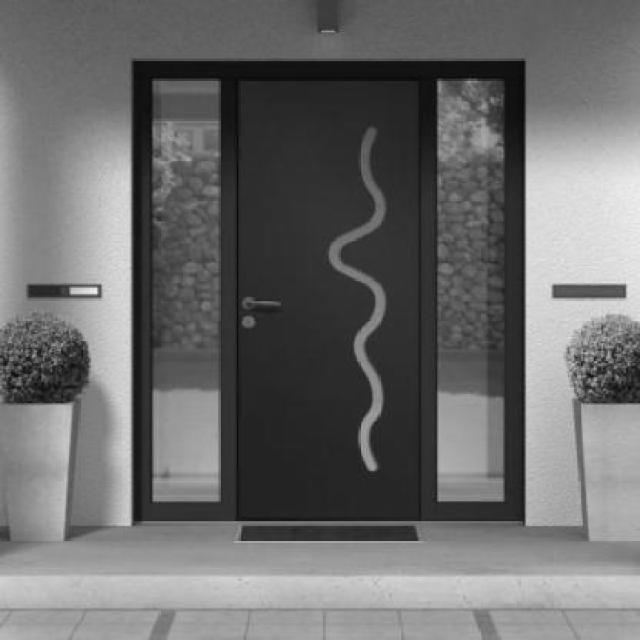door_handle: (239, 296, 287, 313)
